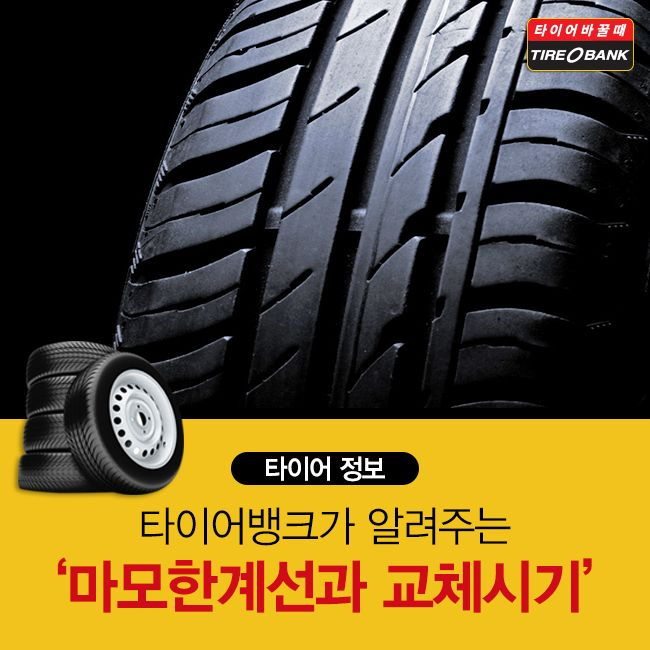new_condition: (177, 75, 635, 407)
